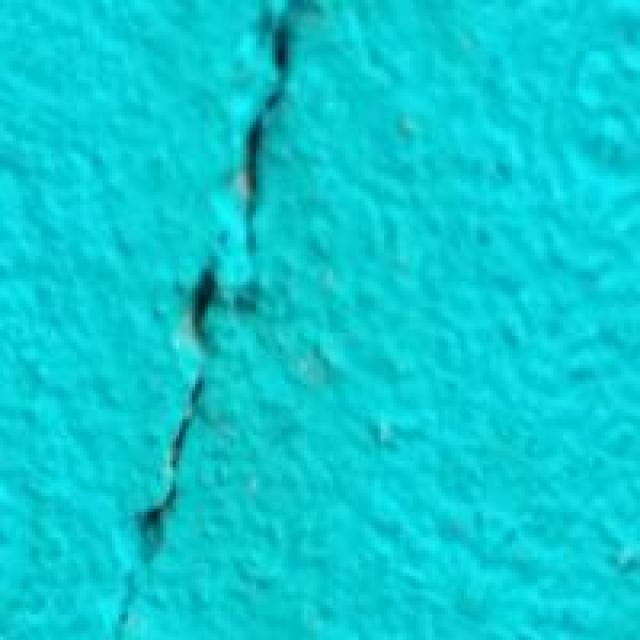crack: (70, 0, 365, 637)
